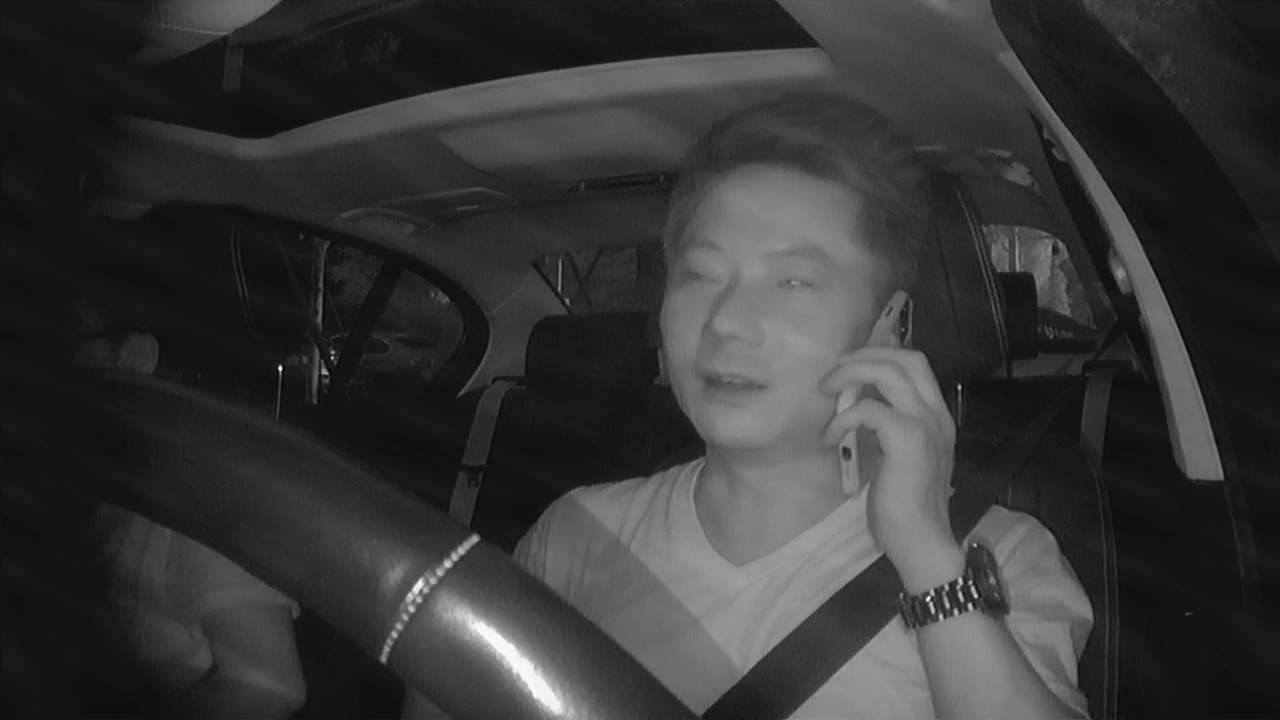hand: (817, 336, 975, 553)
